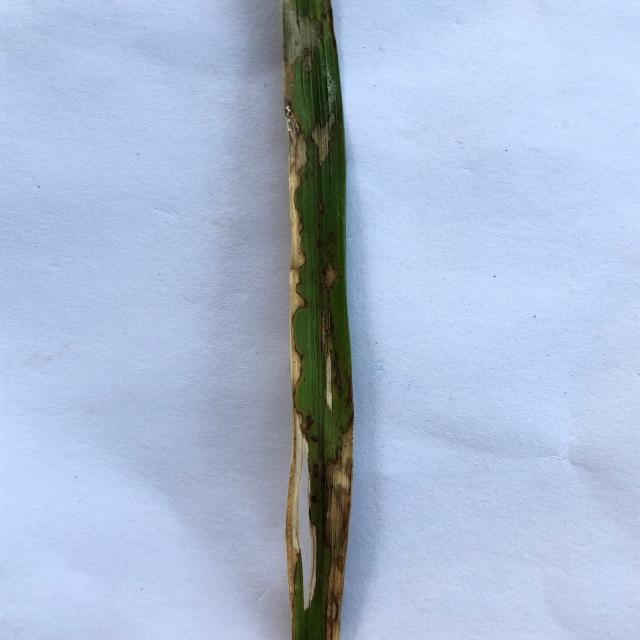leaf blight: (323, 422, 355, 640), (288, 90, 310, 390), (290, 409, 320, 612), (282, 1, 334, 83), (310, 114, 342, 165), (321, 346, 339, 409), (322, 258, 341, 292)
